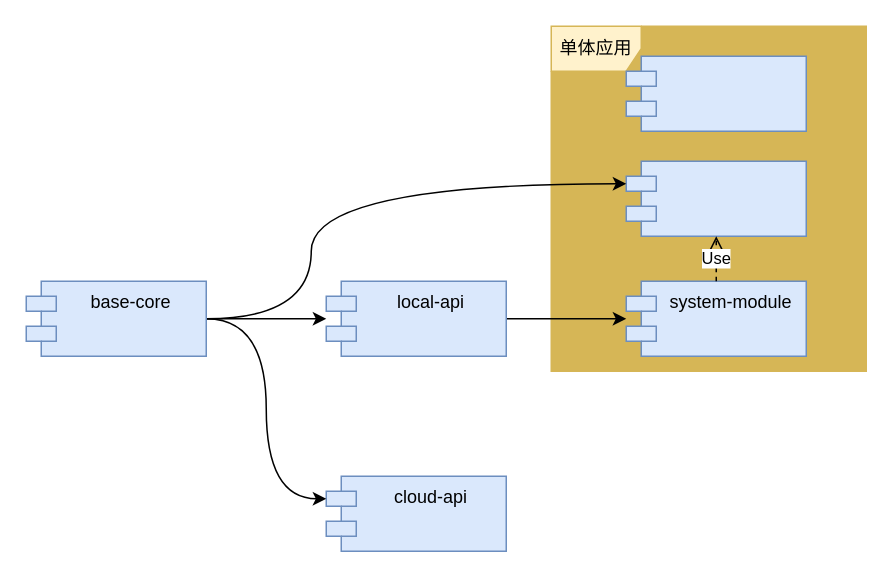
This 893x578 diagram has some shape labels left out. Each missing label, with the box of its shape:
system-demo: (625, 160, 806, 236)
单体应用,功能扩展: (625, 55, 806, 131)
